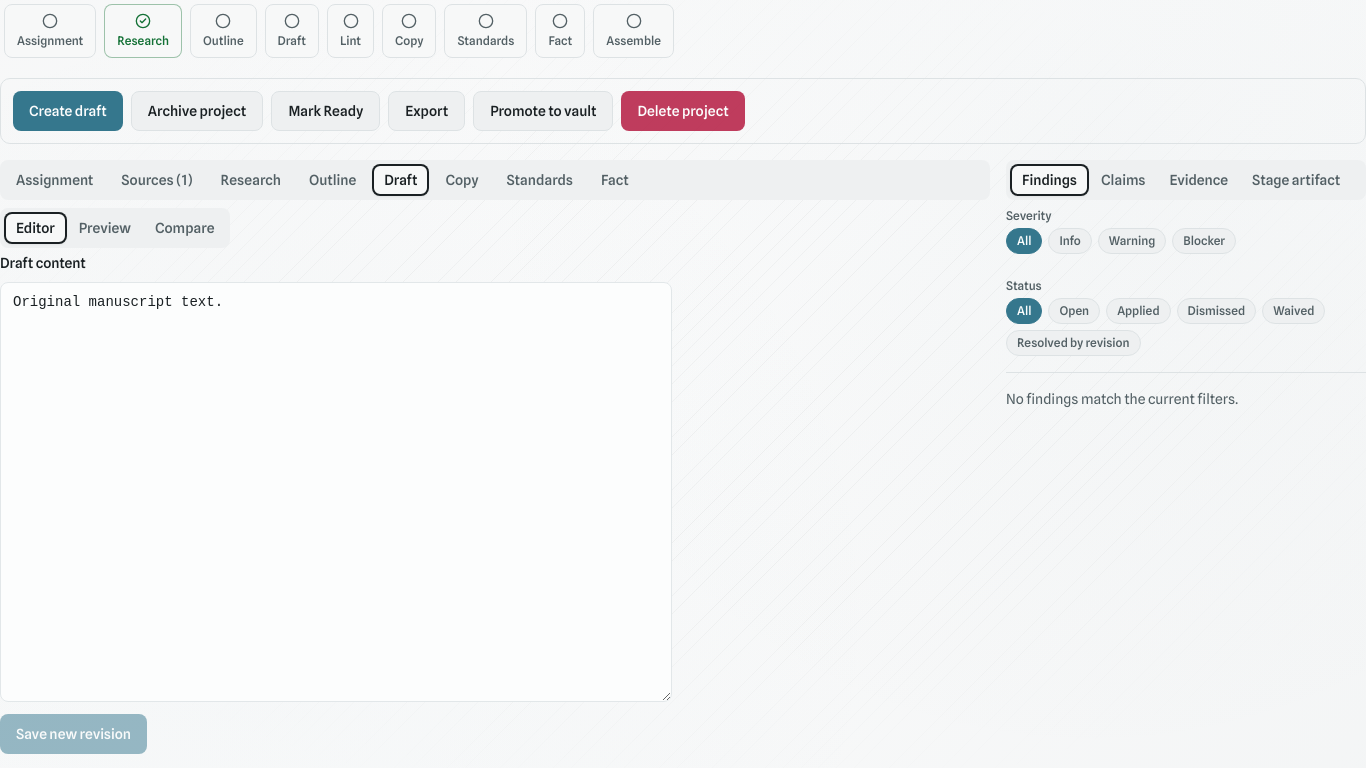
Test: DraftWorkspace › marks the manuscript dirty only after an edit and enables Save revision
Expected: the button "Save new revision" is disabled, [0,714,147,754]
In the text box labelled "Draft content": (336, 492) [0,282,672,702], type " More."
(page scrolled)
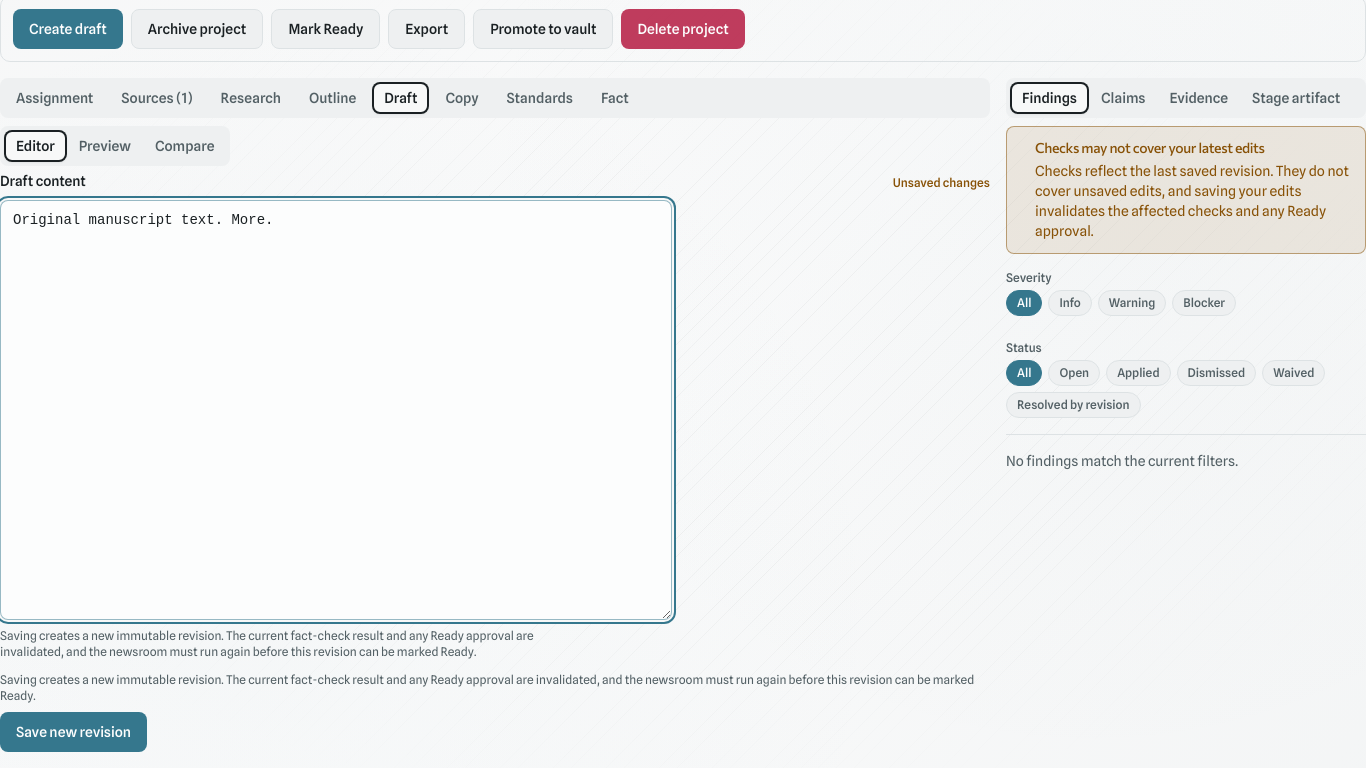
Expected: the button "Save new revision" is enabled, [0,712,147,752]
